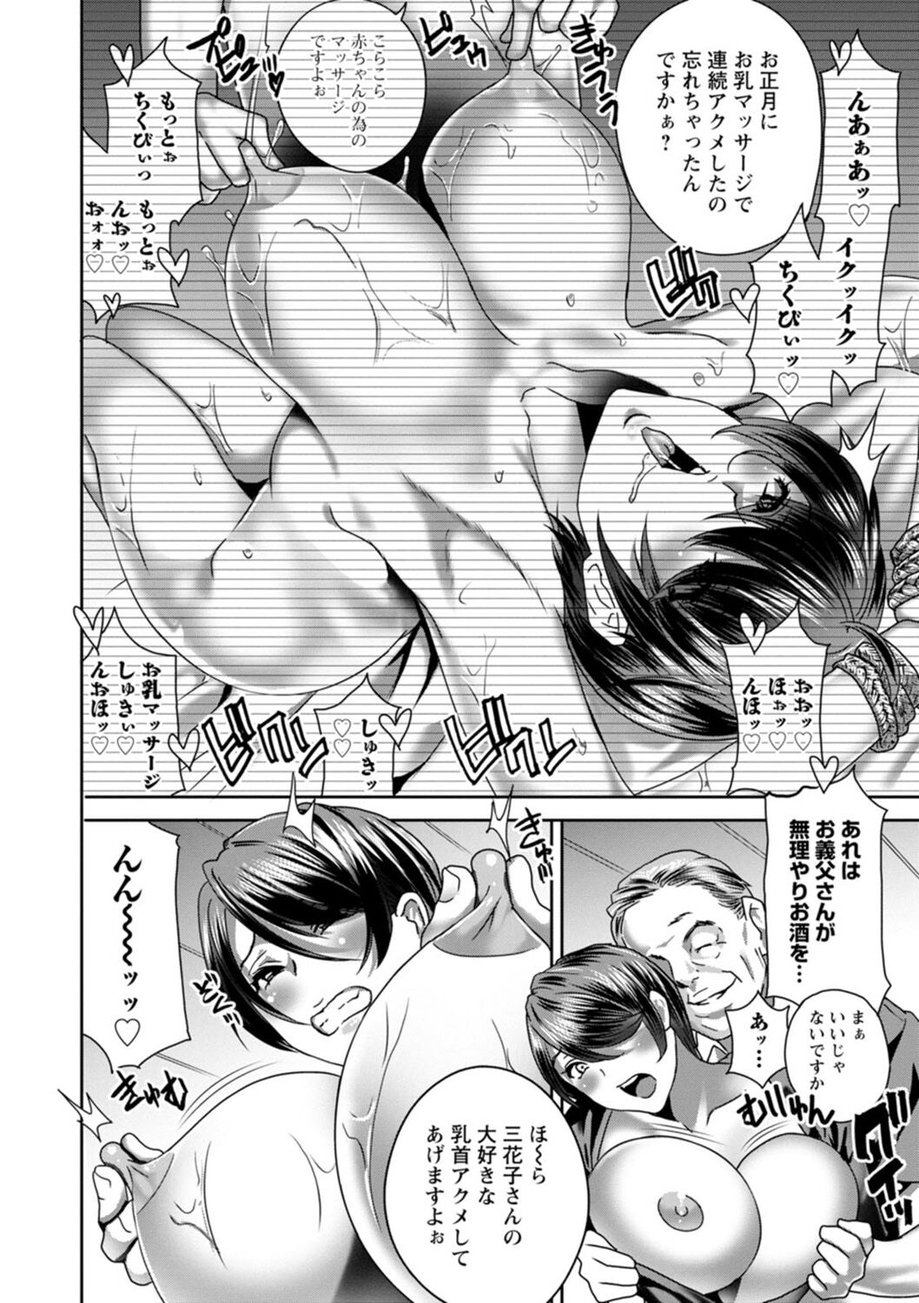text_region: (655, 42, 786, 217), (420, 1112, 555, 1272), (81, 86, 187, 279), (97, 839, 177, 1045), (782, 813, 869, 987), (831, 77, 880, 372), (85, 657, 172, 794), (305, 27, 398, 152), (561, 11, 626, 130), (734, 670, 821, 757), (803, 1006, 870, 1096), (771, 254, 812, 401), (103, 1066, 197, 1119), (353, 715, 389, 794), (743, 1011, 781, 1072)
